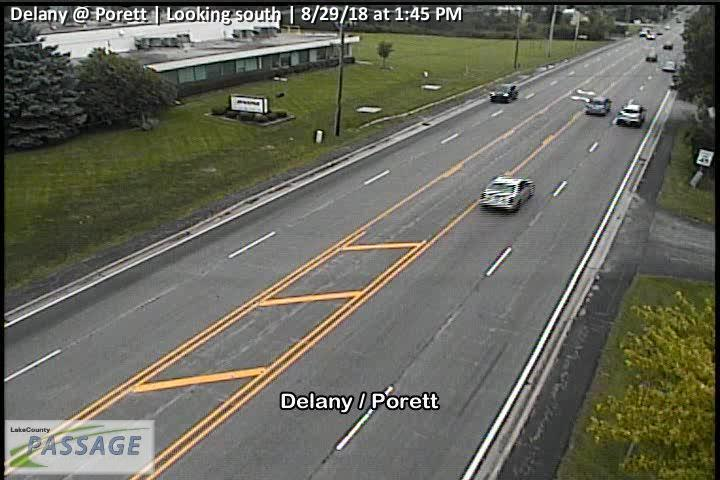SUV: (614, 102, 650, 129), (487, 82, 521, 105)
Sedan: (479, 173, 537, 214), (585, 94, 611, 116), (662, 59, 676, 72)
